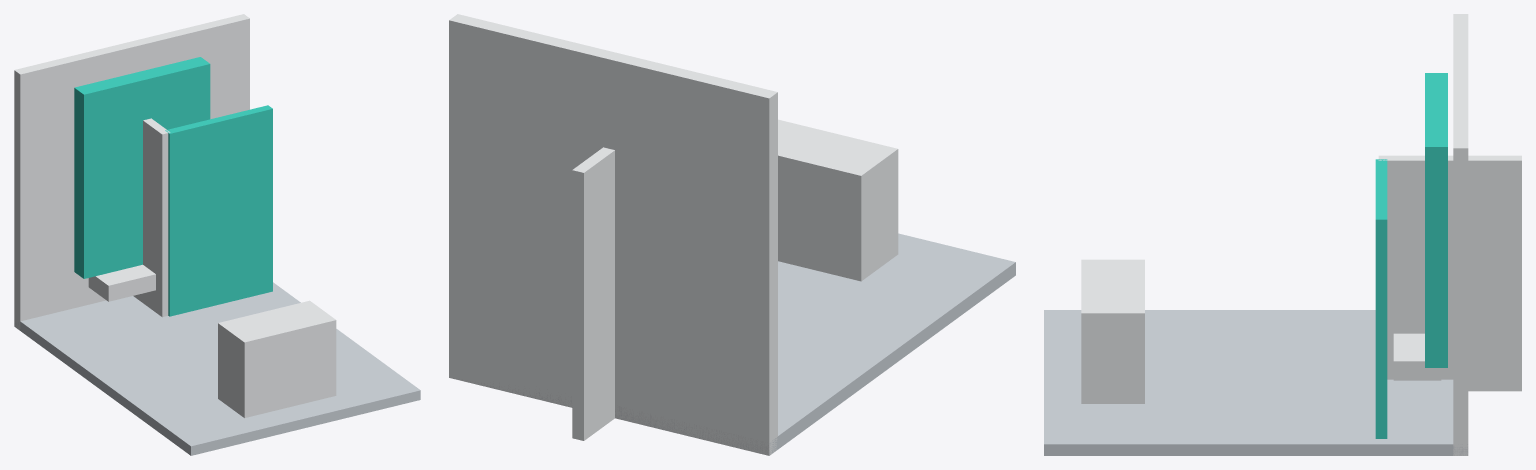
3 renders of one model, left to right at view 1: azimuth 30°, elevation 25°; view 2: azimuth 150°, elevation 25°; view 3: azimuth 270°, elevation 25°, orthographic. The views are drawn at different scales.
Parts seen in each view (by area): view 1: Exhibition Booth Concept; view 2: Exhibition Booth Concept; view 3: Exhibition Booth Concept.
Part boxes in pixels (x1,y1,x2,y2): Exhibition Booth Concept: (14,14,420,455); Exhibition Booth Concept: (449,14,1015,455); Exhibition Booth Concept: (1044,14,1521,455).
Bounding box in the file's own units: 3 × 3.2 × 4.51.
